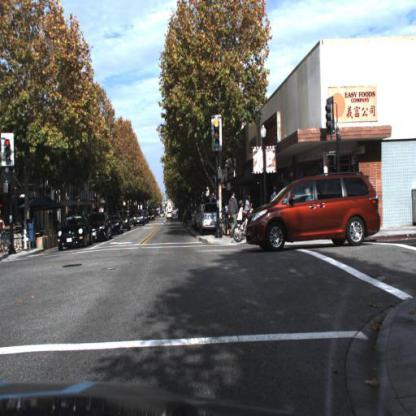car: (240, 170, 382, 263), (59, 214, 93, 251), (88, 213, 115, 239), (111, 214, 127, 235), (120, 212, 135, 230)
pedestrian: (239, 192, 253, 233), (228, 191, 239, 238), (272, 186, 279, 202)
trafficLight: (210, 111, 225, 155), (2, 130, 14, 172)
